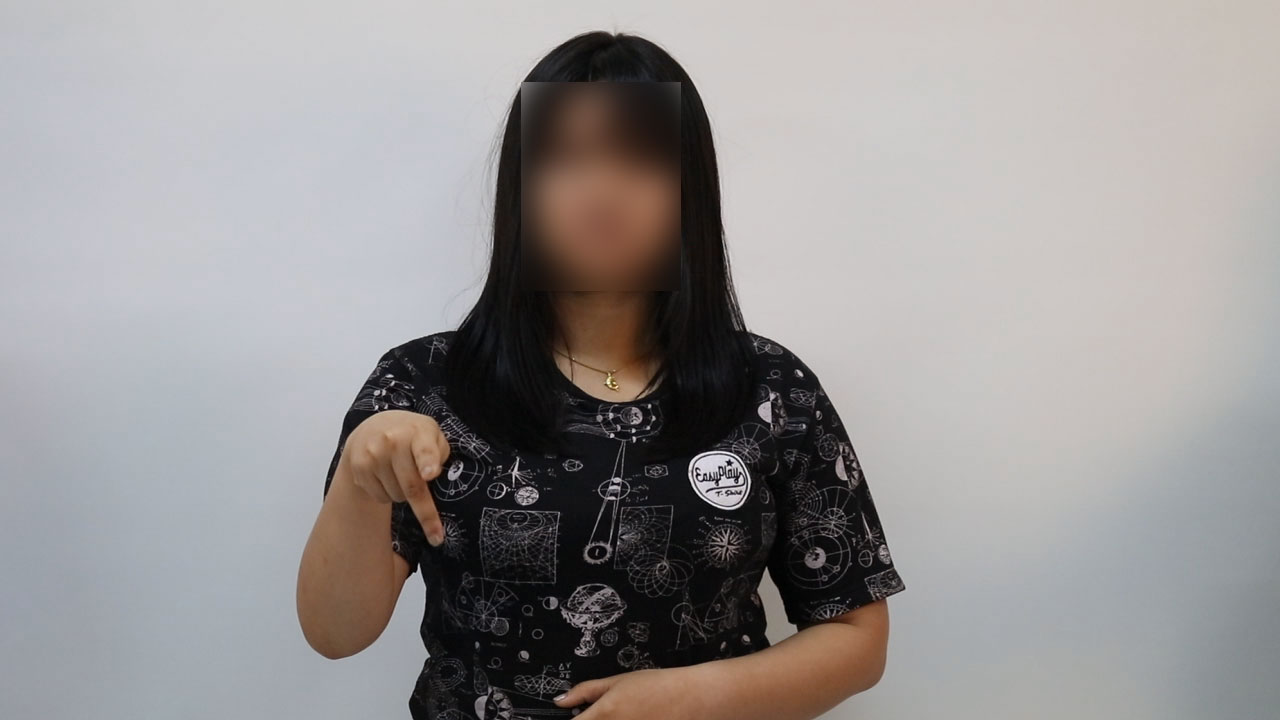por: (344, 394, 469, 558)
